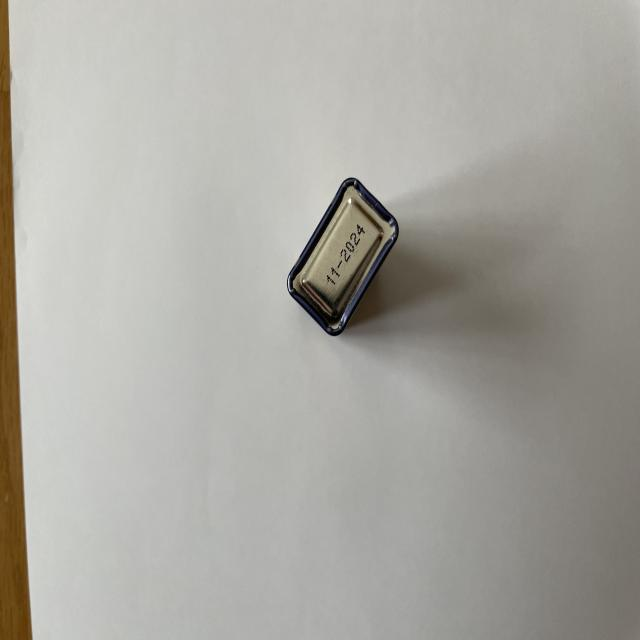9V: (286, 176, 399, 337)
